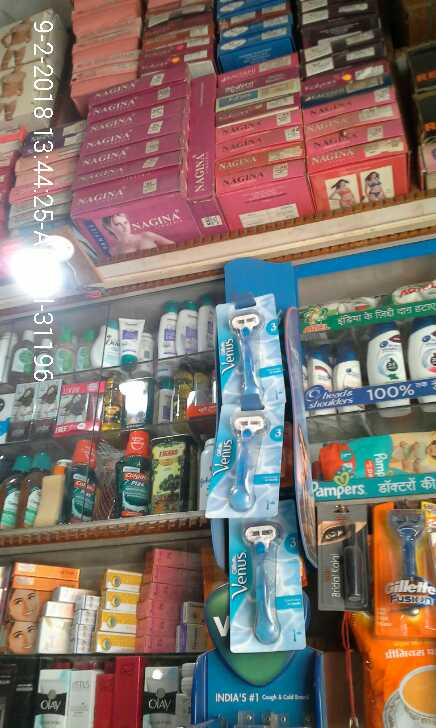beauty: (236, 514, 308, 646), (383, 503, 436, 641), (222, 298, 276, 406), (221, 410, 277, 514), (363, 317, 404, 385), (403, 312, 436, 384), (306, 341, 334, 390), (334, 348, 362, 390)
pharmacy: (319, 436, 436, 474)
